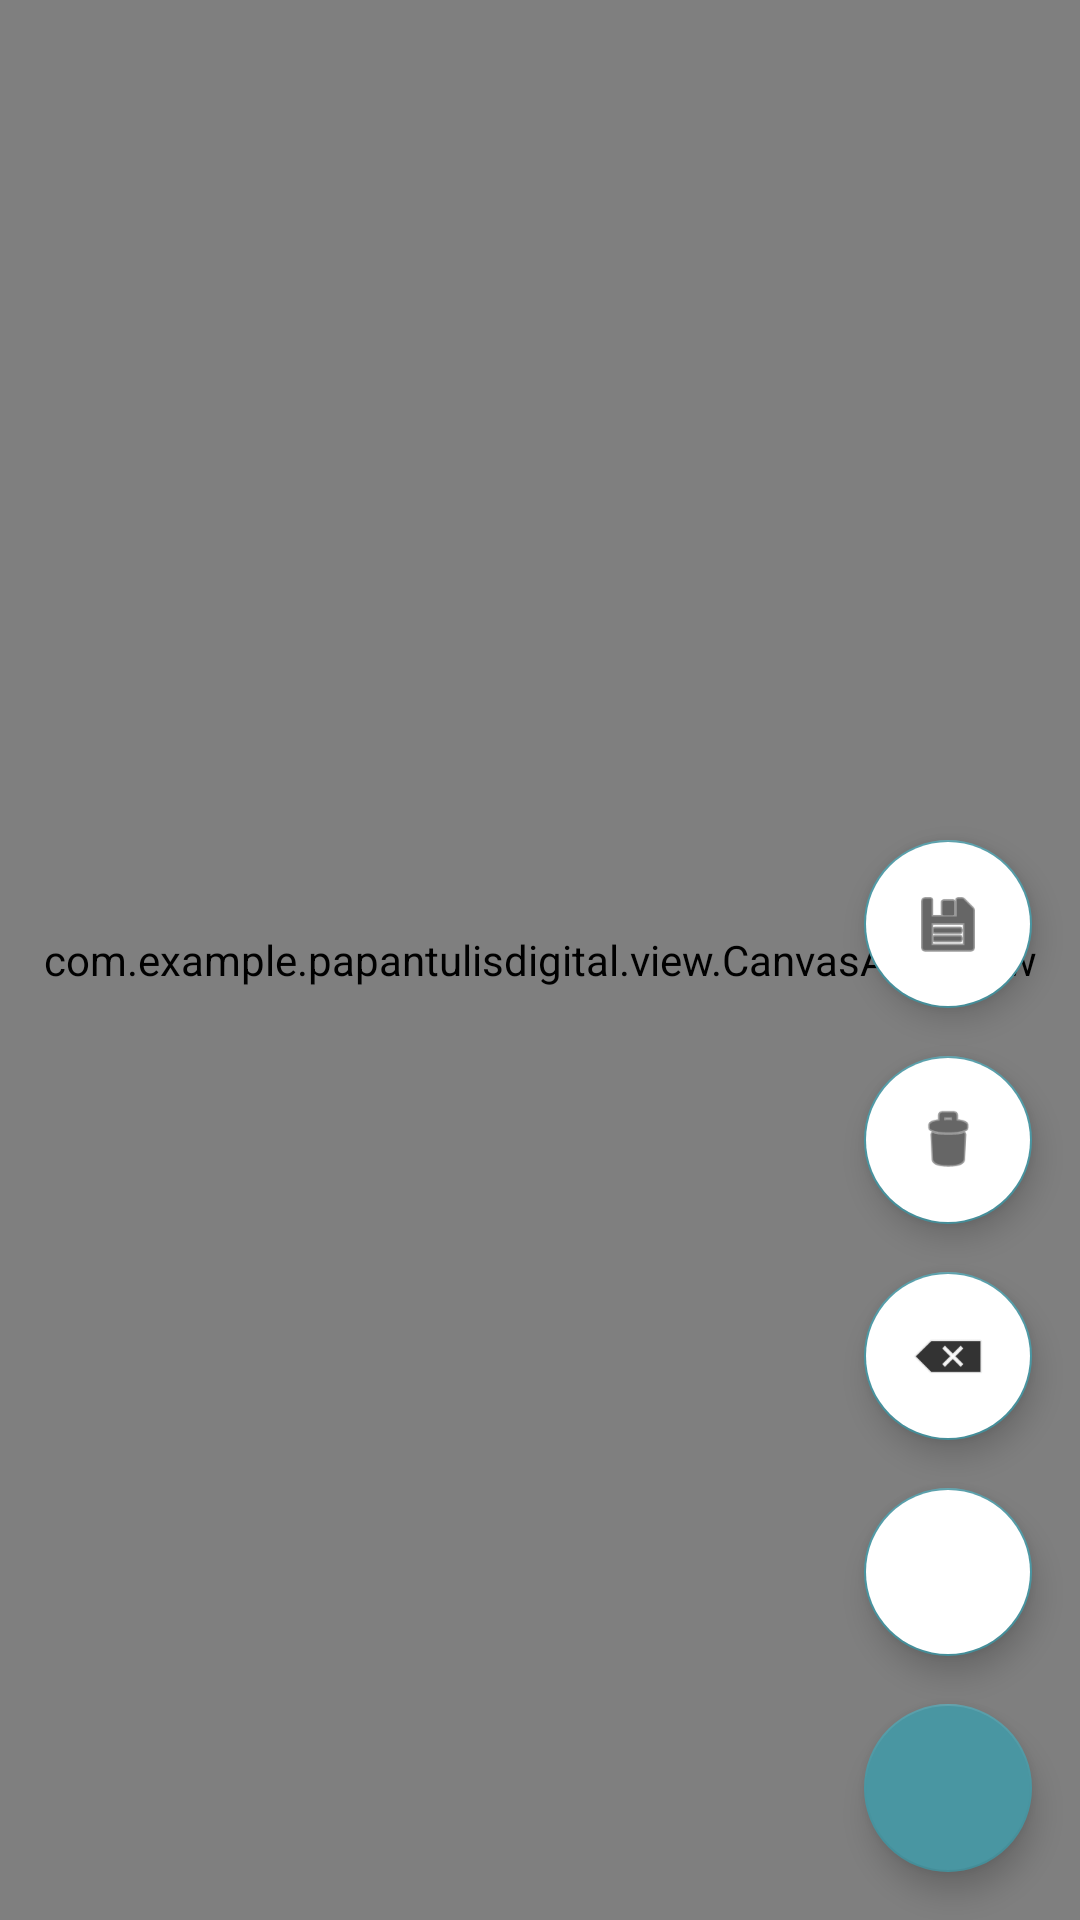

Icon click points for this 1080w x 1920h phone screenshot, format (x,y):
delete: (948,1140), (948,1356)
save: (948,924)
